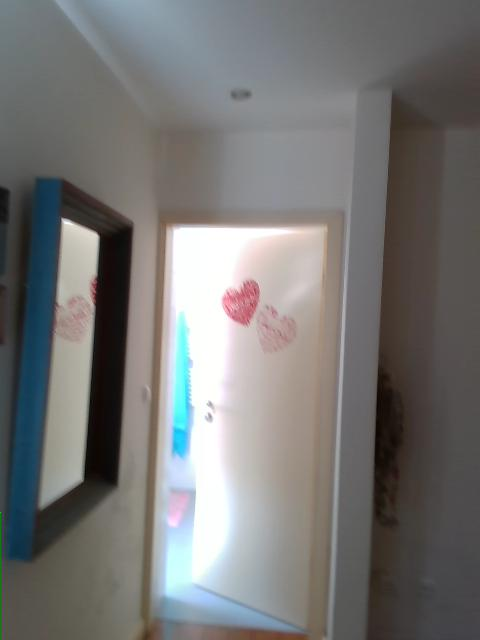semi_door: (141, 197, 345, 639)
